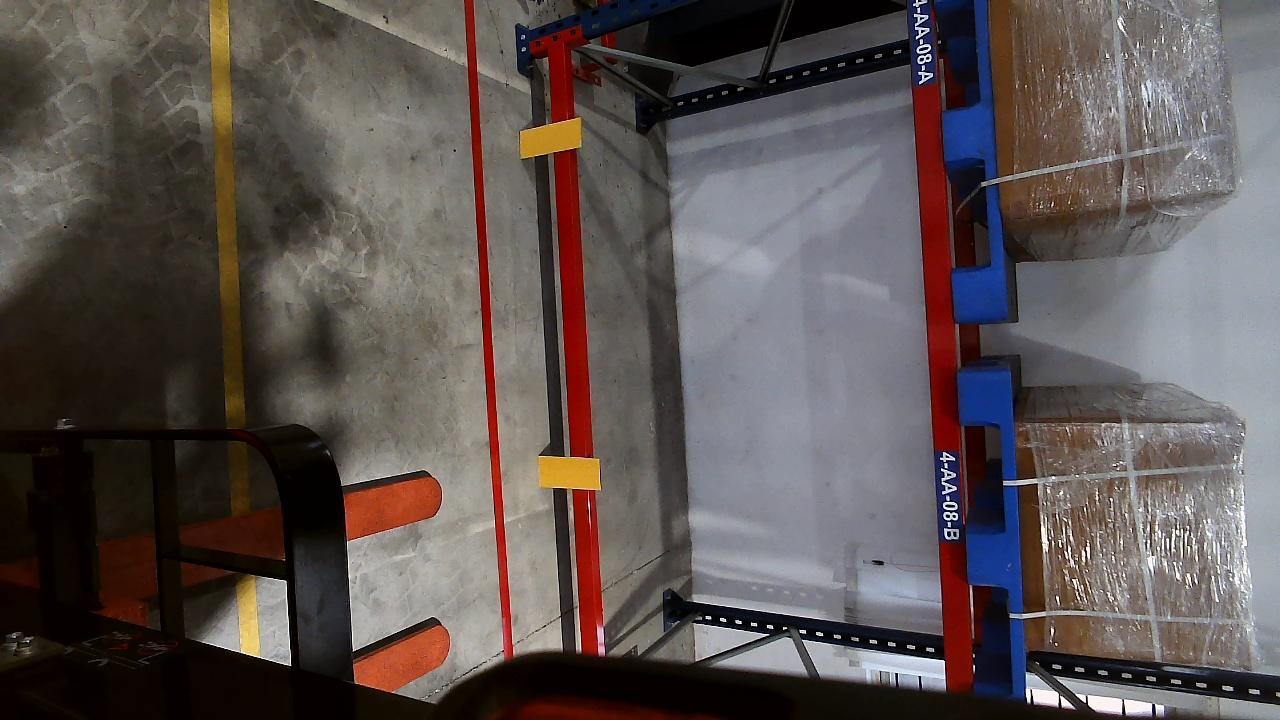h_rack: (907, 1, 976, 684), (550, 59, 596, 660)
orange_strip: (519, 118, 583, 158), (537, 455, 601, 489)
red_line: (461, 0, 516, 652)
small_pallet: (958, 375, 1030, 695), (942, 5, 1012, 323)
yellow_line: (209, 0, 249, 427)
